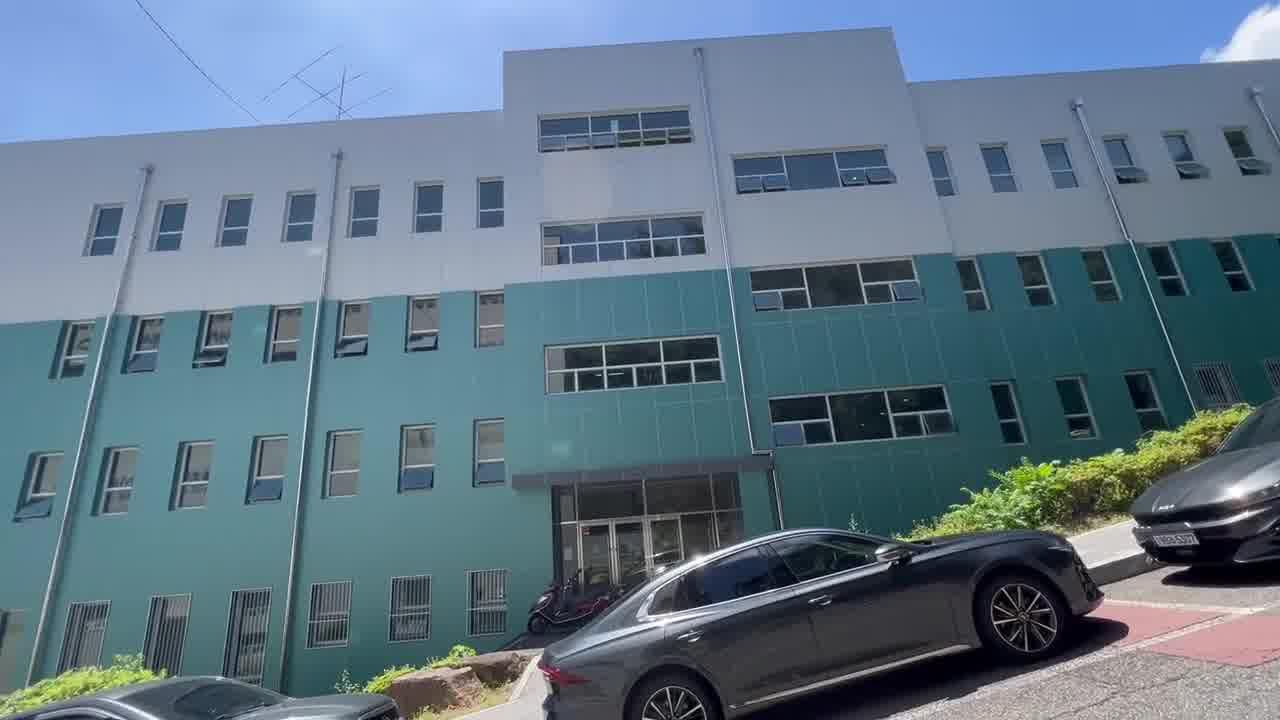building: (30, 11, 1002, 536)
